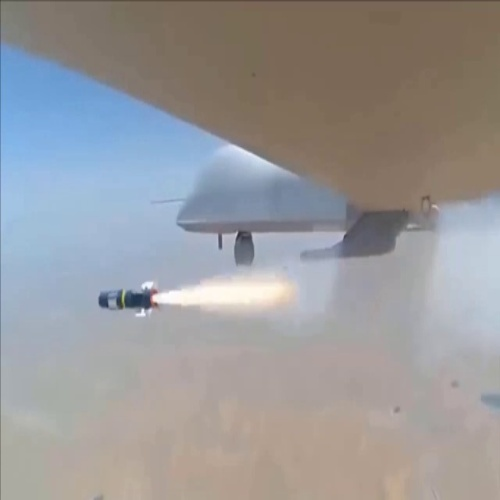uav: (1, 1, 498, 276)
